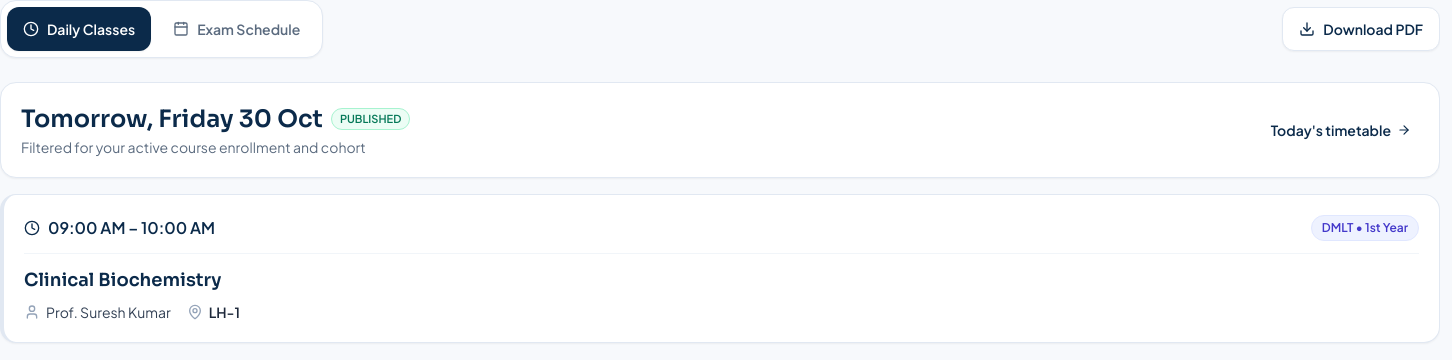
Phase 10C - Daily Timetable Architecture › 2. Student TimetableTab opens directly on Tomorrow without calendar or month view
This screenshot has width=1452, height=360.
Clicking Today link switches to today's timetable
Click the button "Today's timetable".
click(1341, 130)  # box 1263,116 -> 1419,144
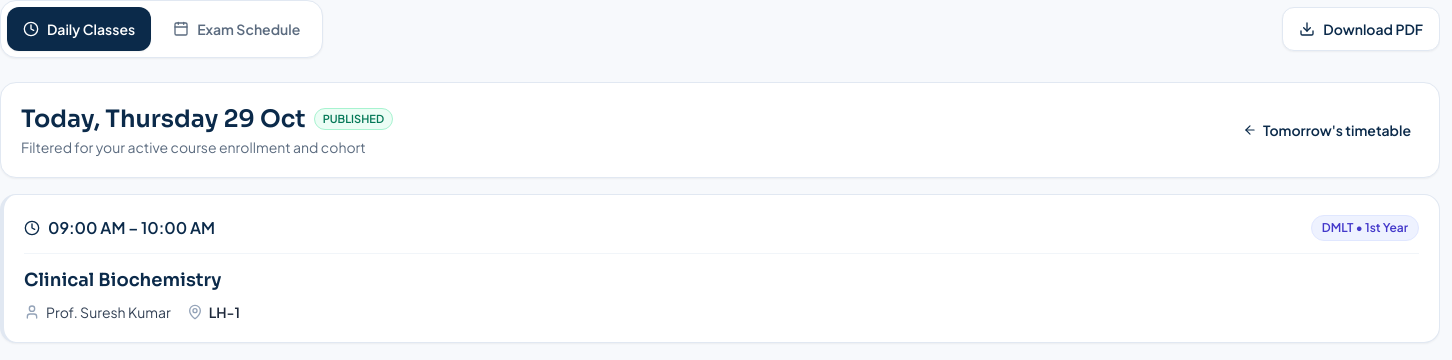
Expected: the button "Tomorrow's timetable" is shown, 1235,116 -> 1419,144
